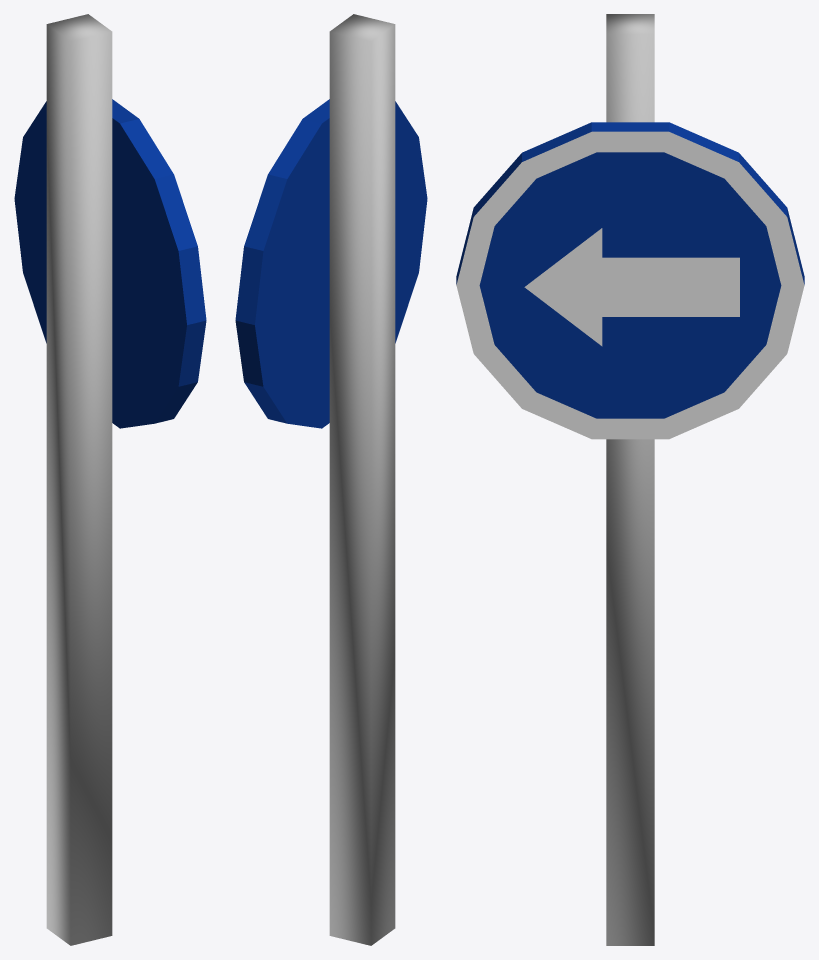
File: signBlueLeft.fbx
The picture shows the model from 3 angles, left to right: view 1: azimuth 30°, elevation 25°; view 2: azimuth 150°, elevation 25°; view 3: azimuth 270°, elevation 25°; orthographic projection.
Visible parts, largest first — view 1: BlueSignLeft; view 2: BlueSignLeft; view 3: BlueSignLeft.
Part boxes in pixels (x1,y1,x2,y2): BlueSignLeft: (14,14,206,945); BlueSignLeft: (235,14,427,945); BlueSignLeft: (456,14,804,945).
Bounding box in the file's own units: 31.67 × 445 × 154.
